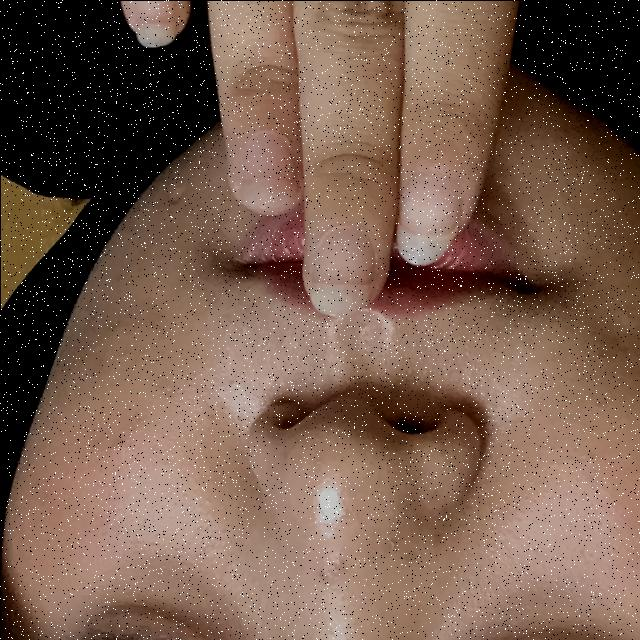ganteng: (5, 0, 640, 389)
